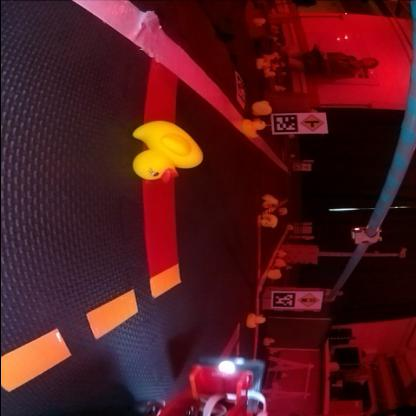Duckie: (134, 122, 202, 182), (240, 118, 264, 137), (252, 101, 271, 115), (261, 214, 277, 229), (247, 314, 264, 328), (262, 196, 278, 208), (269, 270, 281, 280)
Duckiebot: (151, 362, 270, 415)
Intersection sign: (302, 115, 327, 134)
QR code: (272, 115, 298, 133), (272, 292, 296, 308)
Signal sign: (298, 294, 316, 308)
Traffic light: (352, 228, 380, 244)
